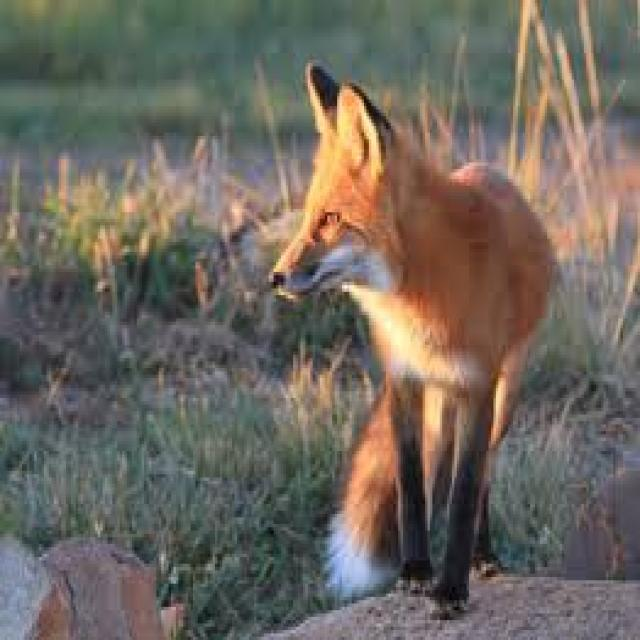fox: (266, 56, 560, 614)
